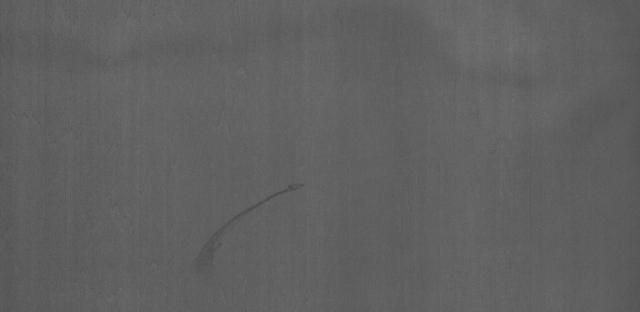water_spot: (175, 159, 304, 284)
